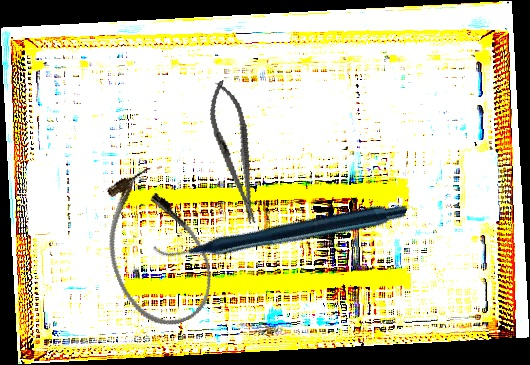Cannula: (84, 159, 226, 339)
Handpiece: (151, 114, 409, 344)
Needle Holder: (201, 77, 269, 228)
